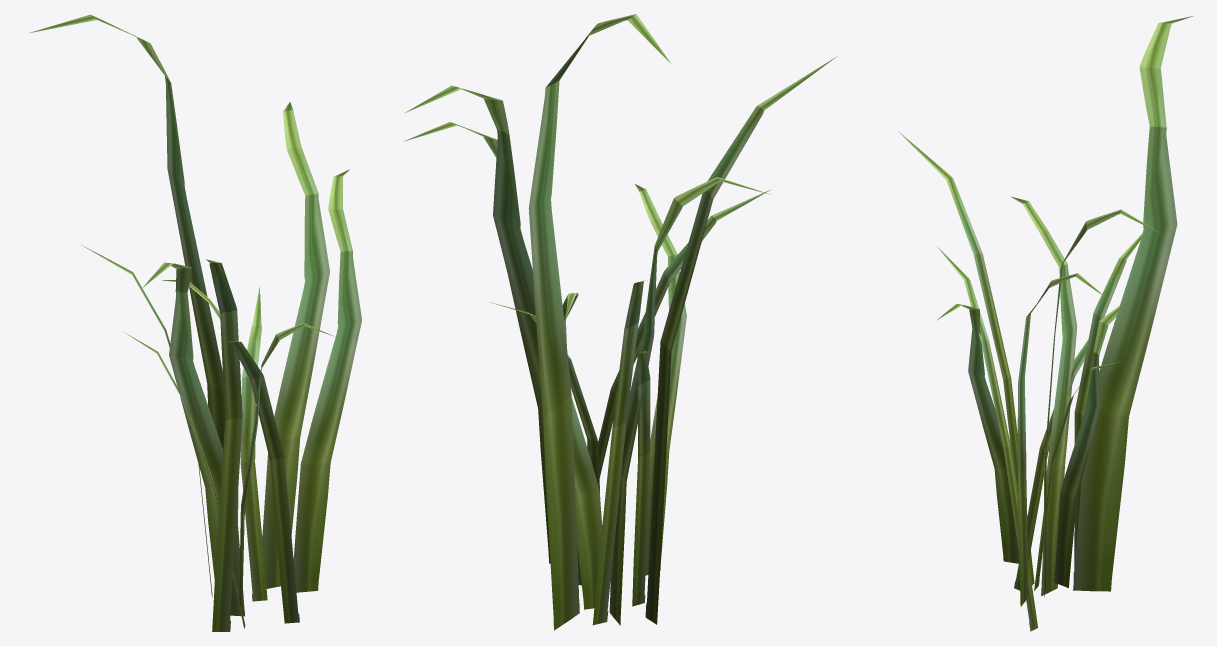
Rendered from SM_GreenLongLeaves.fbx.
3 views of the same model, side by side, from view 1: azimuth 30°, elevation 25°; view 2: azimuth 150°, elevation 25°; view 3: azimuth 270°, elevation 25° (orthographic). The views are drawn at different scales.
Parts seen in each view (by area): view 1: Plane.186, Plane.190, Plane.185, Plane.188, Plane.184, Plane.189, Plane.187, Plane.192, Plane.195, Plane.191; view 2: Plane.184, Plane.185, Plane.190, Plane.191, Plane.188, Plane.194, Plane.195, Plane.192, Plane.189, Plane.186, Plane.187; view 3: Plane.184, Plane.188, Plane.194, Plane.192, Plane.185, Plane.186, Plane.189, Plane.191, Plane.195, Plane.190, Plane.187.
Boxes of the visible parts, <box> form: Plane.186: <box>293,169,361,592</box>; Plane.190: <box>262,102,329,588</box>; Plane.185: <box>206,259,242,631</box>; Plane.188: <box>142,262,244,616</box>; Plane.184: <box>30,14,224,449</box>; Plane.189: <box>224,341,299,623</box>; Plane.187: <box>240,287,267,601</box>; Plane.192: <box>239,323,334,609</box>; Plane.195: <box>122,331,245,628</box>; Plane.191: <box>81,245,212,597</box>; Plane.184: <box>528,14,670,630</box>; Plane.185: <box>645,55,838,624</box>; Plane.190: <box>404,85,581,585</box>; Plane.191: <box>592,279,649,625</box>; Plane.188: <box>609,177,770,625</box>; Plane.194: <box>562,292,608,609</box>; Plane.195: <box>632,351,650,606</box>; Plane.192: <box>635,184,686,575</box>; Plane.189: <box>598,189,771,477</box>; Plane.186: <box>403,122,550,563</box>; Plane.187: <box>490,302,600,497</box>; Plane.184: <box>1073,15,1194,591</box>; Plane.188: <box>1010,196,1077,595</box>; Plane.194: <box>1054,305,1119,587</box>; Plane.192: <box>936,304,1019,563</box>; Plane.185: <box>898,131,1034,585</box>; Plane.186: <box>1017,273,1105,606</box>; Plane.189: <box>937,246,1037,631</box>; Plane.191: <box>1073,233,1142,580</box>; Plane.195: <box>1014,339,1088,590</box>; Plane.190: <box>1044,209,1160,597</box>; Plane.187: <box>1034,360,1125,590</box>.
Bounding box in the file's own units: 28.13 × 54.21 × 28.44.
1 material, 1 textured.
